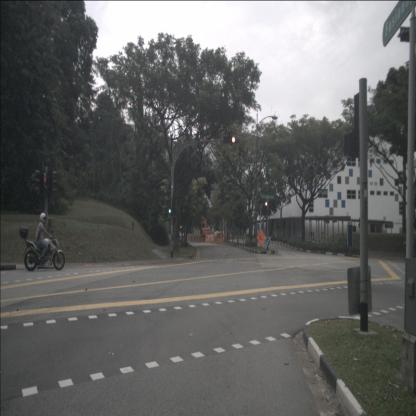barrier: (193, 234, 196, 242), (195, 234, 198, 242), (191, 234, 194, 242), (192, 234, 195, 242), (197, 235, 200, 242)
cone: (225, 238, 228, 245)
